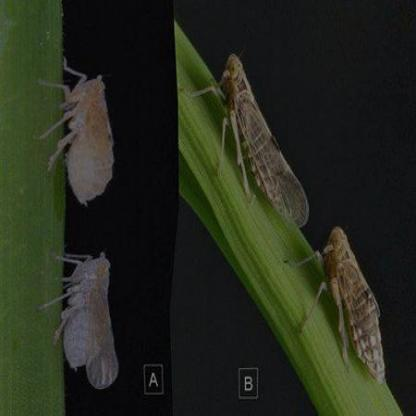brown-planthopper: (216, 50, 307, 226), (318, 226, 386, 383), (58, 244, 118, 388), (61, 62, 116, 207)
